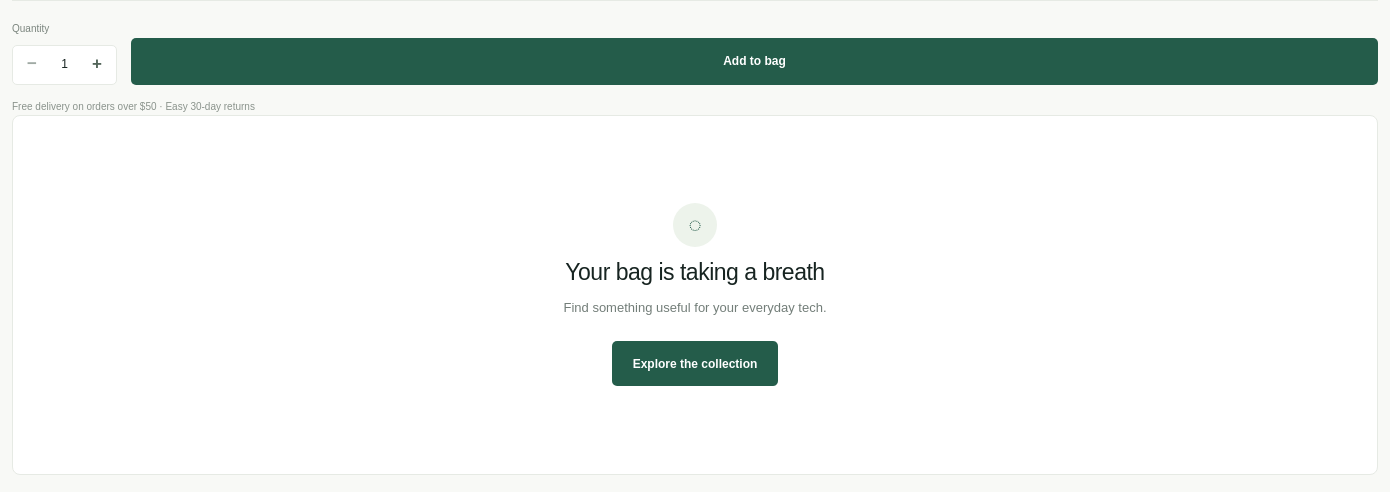
Test: product purchase controls › adds the selected quantity to the cart and confirms the action
Step 1. Click the button named "Increase quantity" → x=97, y=64, box [78,46,116,84]
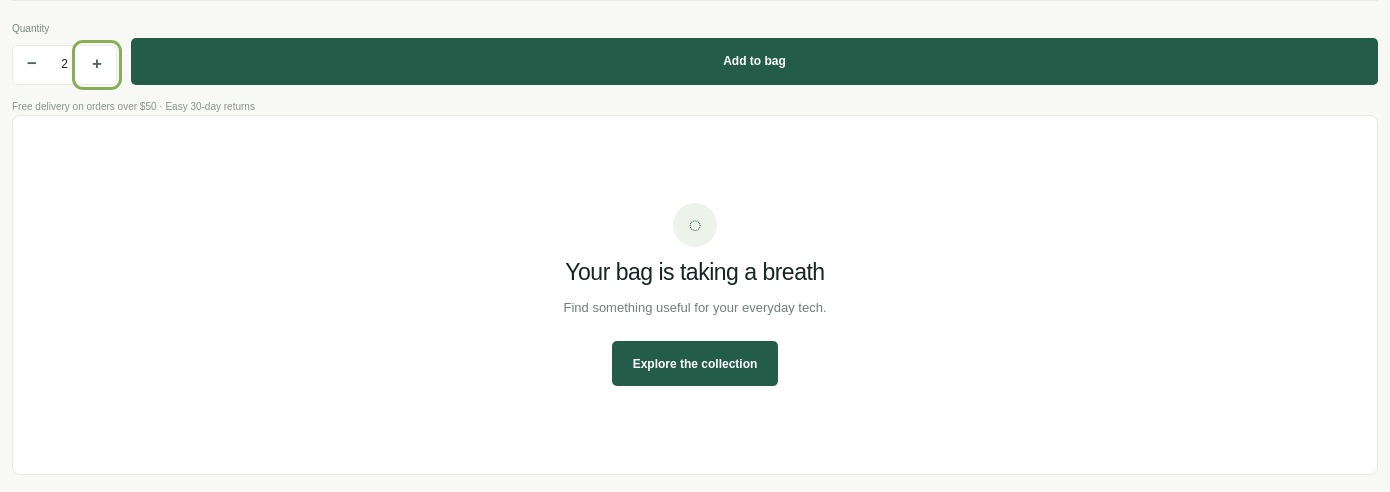
Step 2. Click the button "Add to bag" → x=754, y=61, box [131,38,1378,84]
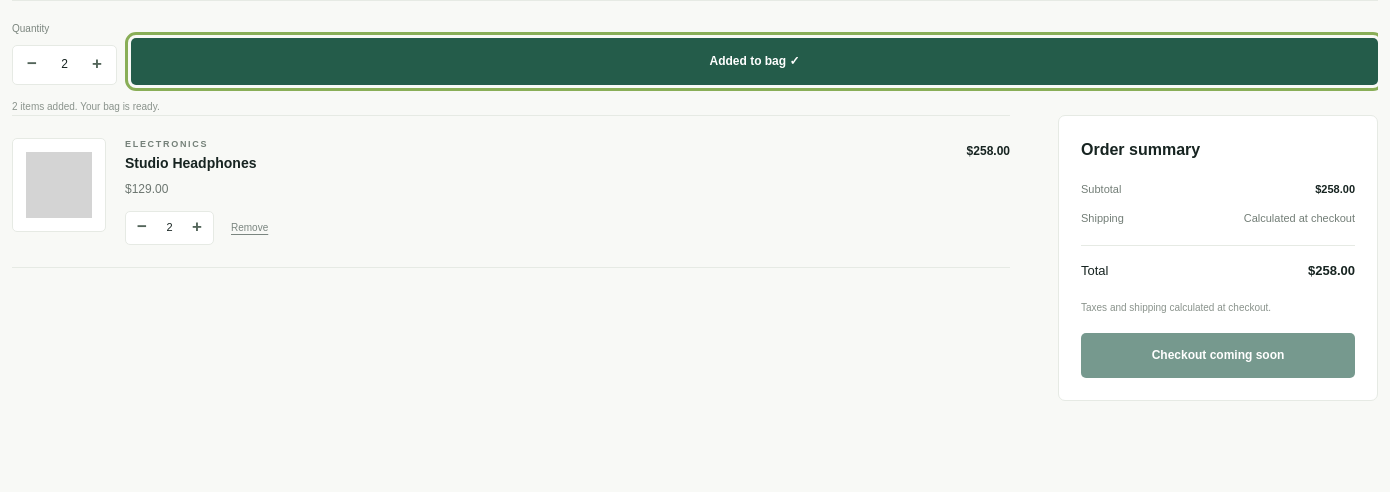
Now the text "2 items added. Your bag is ready." is shown, box [12,100,160,112]
Now the heading "Studio Headphones" is shown, box [125,155,256,171]
Now the 3rd text "$258.00" is shown, box [1308,261,1355,282]
